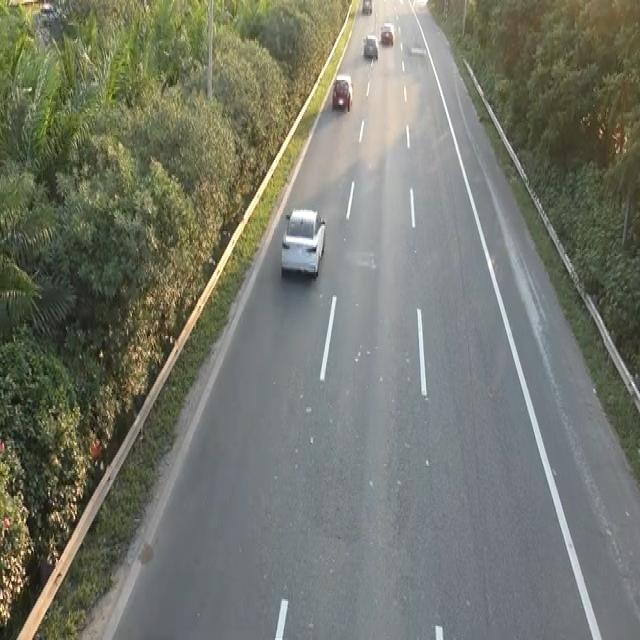bus: (278, 203, 329, 286), (331, 73, 353, 112)
